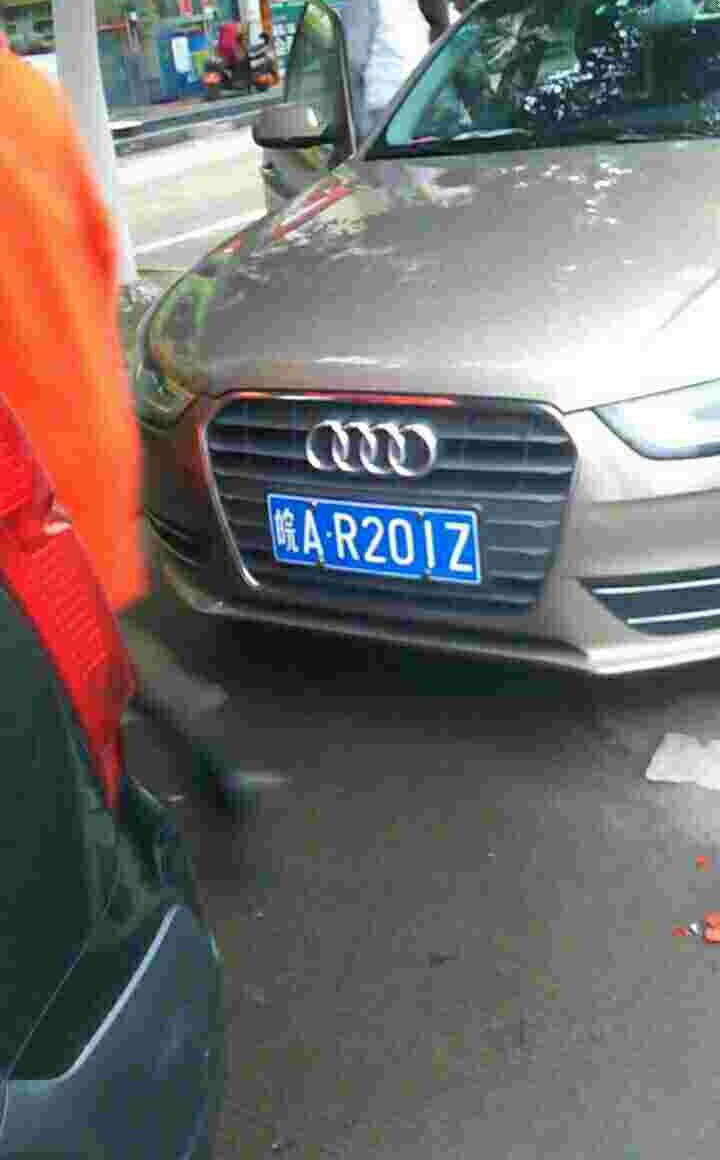plate: (263, 488, 484, 590)
